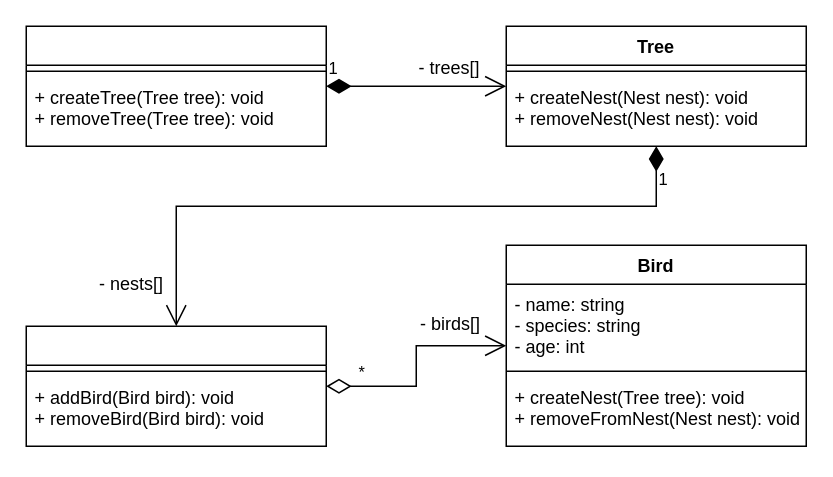
Some shapes in this 833 by 477 pixel diagram are drawn without their labels. The shapes that lost their labels are listed below. From the top down, each one's box as (x1, y1, x2, y2) in pixels, then its label:
(25, 25, 326, 146): Forest
(25, 325, 326, 446): Nest
